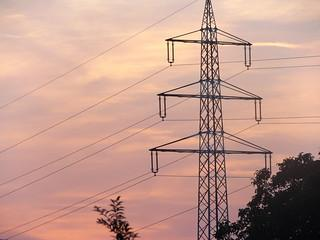power_tower: (152, 0, 278, 240)
